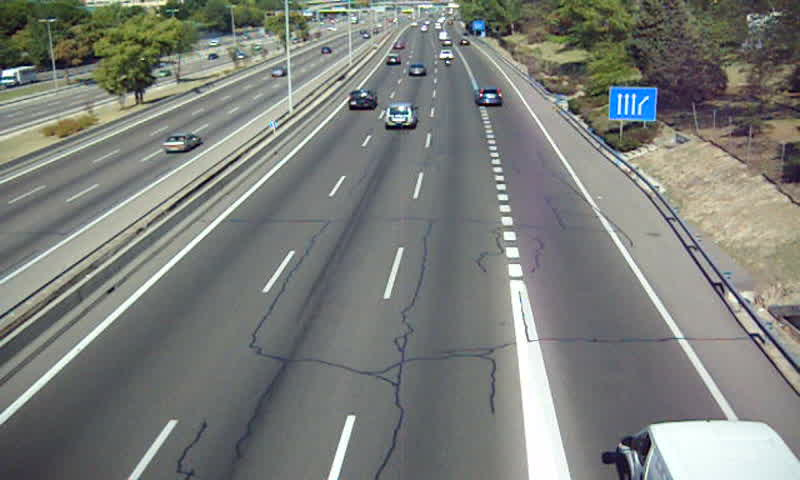car: (382, 103, 419, 129), (347, 89, 378, 110), (475, 86, 504, 106), (407, 63, 428, 79), (386, 52, 402, 67)
